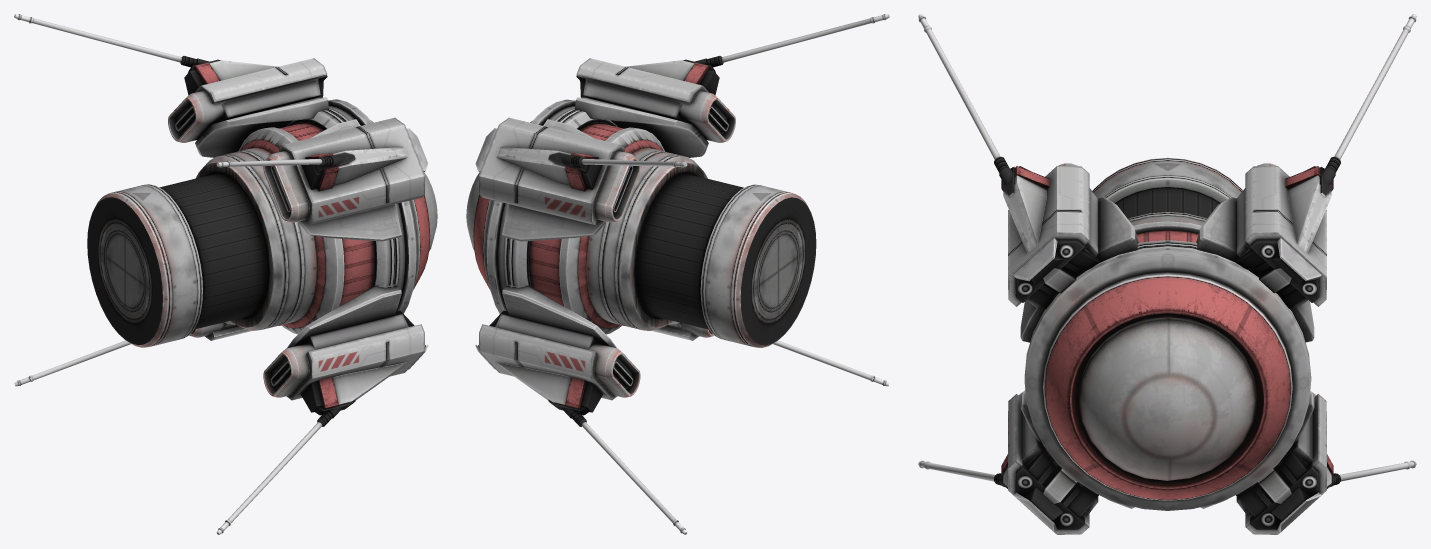
File: satellite.fbx
The picture shows the model from 3 angles, left to right: view 1: azimuth 30°, elevation 25°; view 2: azimuth 150°, elevation 25°; view 3: azimuth 270°, elevation 25°; orthographic projection. The views are drawn at different scales.
Parts seen in each view (by area): view 1: SK_Drone_010; view 2: SK_Drone_010; view 3: SK_Drone_010.
Boxes of the visible parts, left/top/right/bottom form: SK_Drone_010: left=14, top=14, right=437, bottom=534; SK_Drone_010: left=466, top=14, right=889, bottom=534; SK_Drone_010: left=918, top=14, right=1416, bottom=534.
Size of the model in its own units: 371 by 424 by 423.
1 material, 1 textured.
